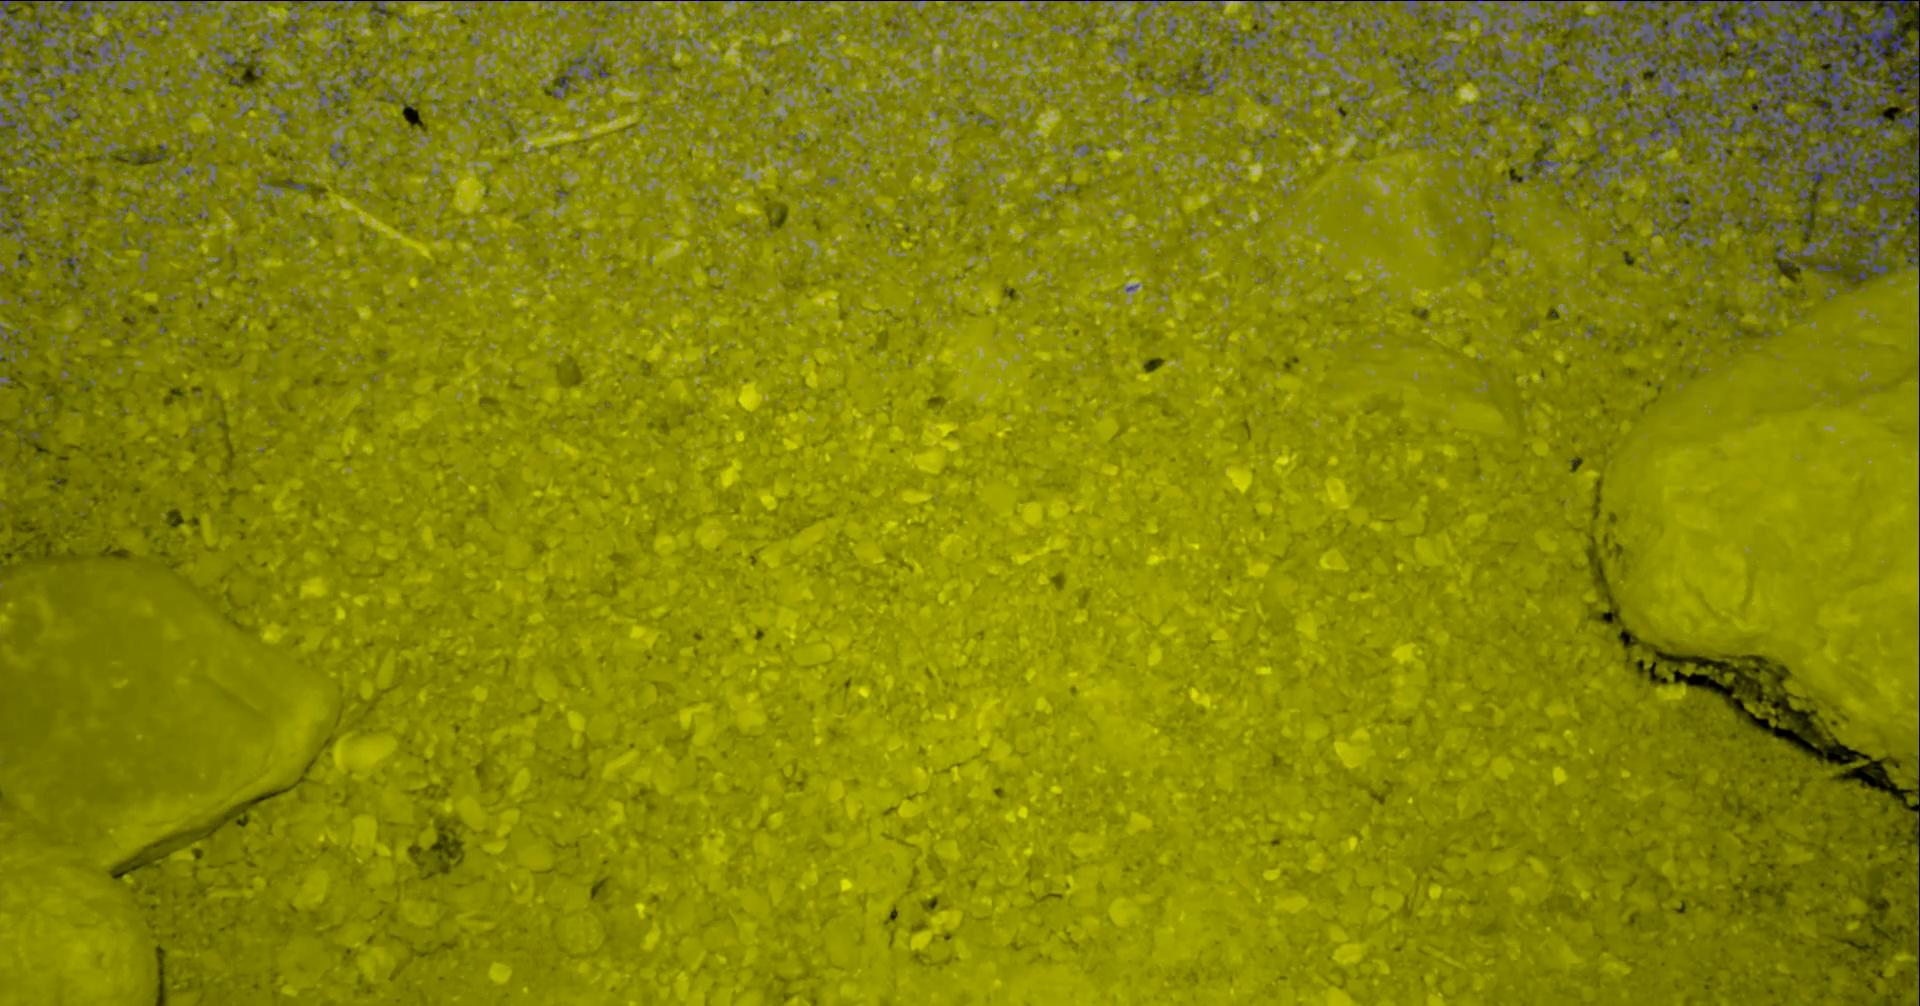ant: (1774, 243, 1815, 271), (1529, 137, 1556, 177), (1603, 80, 1637, 111), (1595, 42, 1637, 65), (1589, 18, 1620, 42), (57, 0, 99, 18), (0, 0, 55, 13), (131, 144, 166, 163), (1898, 234, 1919, 267), (356, 0, 386, 19), (1554, 15, 1595, 29), (0, 8, 17, 41), (1799, 224, 1831, 240), (1747, 146, 1768, 166), (20, 30, 37, 55), (30, 14, 51, 33), (0, 117, 19, 137), (1903, 207, 1919, 232), (559, 66, 571, 91), (1675, 201, 1691, 218), (1815, 260, 1841, 271), (1759, 171, 1773, 191), (1531, 83, 1545, 100), (1917, 906, 1919, 988)
